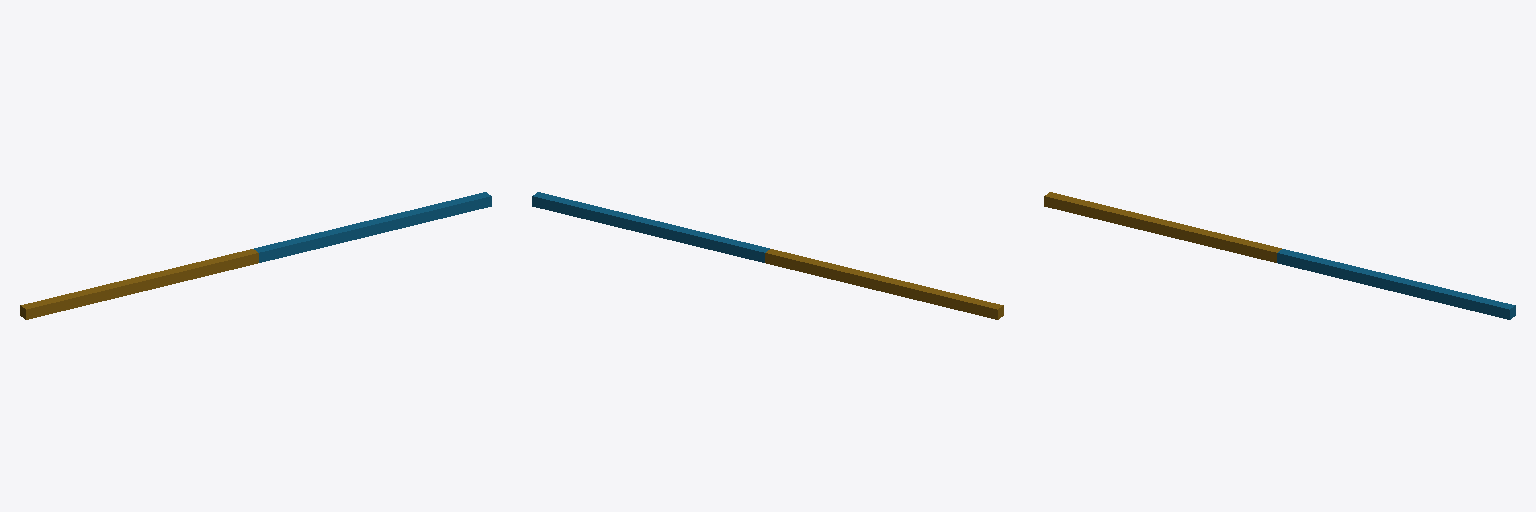
URDF robot description (beam):
<robot name="beam">
  <link name="beam">
    <inertial>
      <mass value="5"/>
      <origin xyz="0 0 0" rpy="0 0 0"/>
      <inertia ixx="0.01" ixy="0" ixz="0" iyy="0.01" iyz="0" izz="1"/>
    </inertial>
    <visual>
      <origin xyz="0.35 0 0"/>
      <geometry>
        <box size="0.7 0.03 0.03" />
      </geometry>
      <material name="blue">
        <color rgba="0.11 0.42 0.56 1.0"/>
      </material>
    </visual>
    <visual>
      <origin xyz="-0.35 0 0"/>
      <geometry>
        <box size="0.7 0.03 0.03" />
      </geometry>
      <material name="red">
        <color rgba="0.56 0.42 0.11 1.0"/>
      </material>
    </visual>
    <collision>
      <geometry>
        <box size="1.4 0.03 0.03" />
      </geometry>
    </collision>
  </link>
</robot>

--- Render facts (derived) ---
The picture shows the robot from 3 angles, left to right: view 1: azimuth 30°, elevation 25°; view 2: azimuth 150°, elevation 25°; view 3: azimuth 330°, elevation 25°; orthographic projection.
Model beam with 1 links and 0 joints (none), rooted at beam, posed every joint at zero.
Visible links, largest first — view 1: beam; view 2: beam; view 3: beam.
Boxes of the visible links, x1,y1,x2,y2 form: beam: (20,192,491,319); beam: (532,192,1003,319); beam: (1044,192,1515,319).
Size in the robot's own frame: 1.4 by 0.03 by 0.03 metres.
Geometry: primitives only (box / cylinder / sphere), no mesh files.
